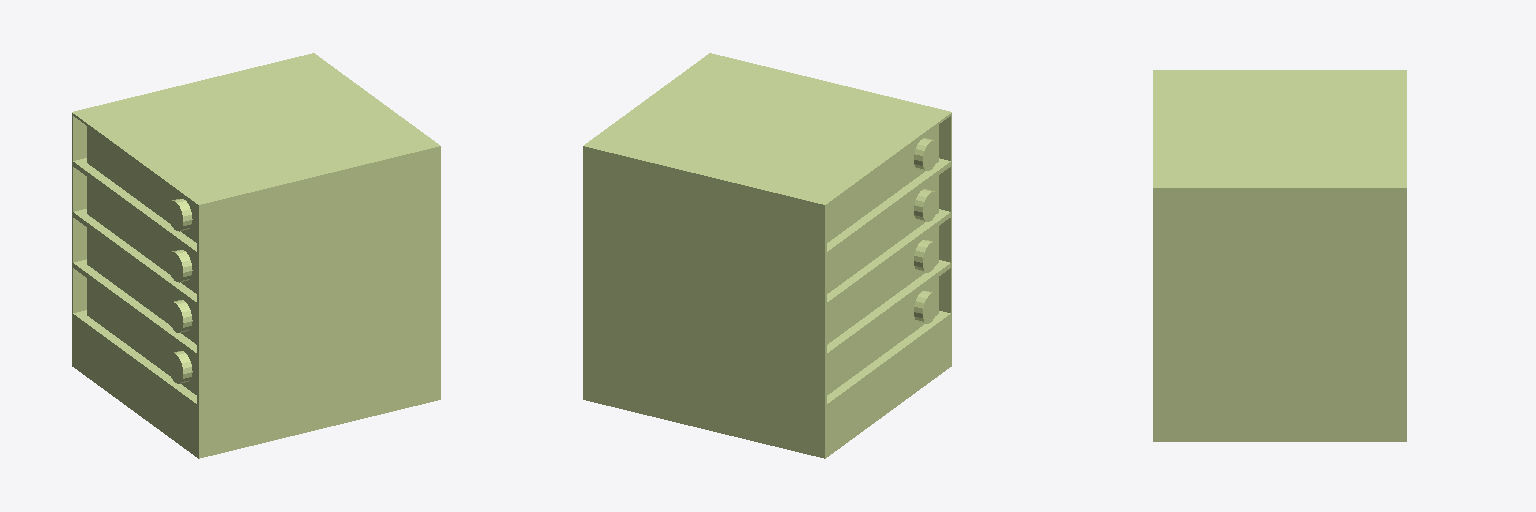
Rendered from studio_databox.obj.
The picture shows the model from 3 angles: view 1: azimuth 30°, elevation 25°; view 2: azimuth 150°, elevation 25°; view 3: azimuth 270°, elevation 25°; orthographic projection.
Parts seen in each view (by area): view 1: Box008; view 2: Box008; view 3: Box008.
Part boxes in pixels (bbox=[...]): Box008: bbox=[72, 53, 440, 458]; Box008: bbox=[583, 53, 951, 458]; Box008: bbox=[1153, 70, 1406, 441].
Size of the model in its own units: 0.9042 by 0.9015 by 0.8188.